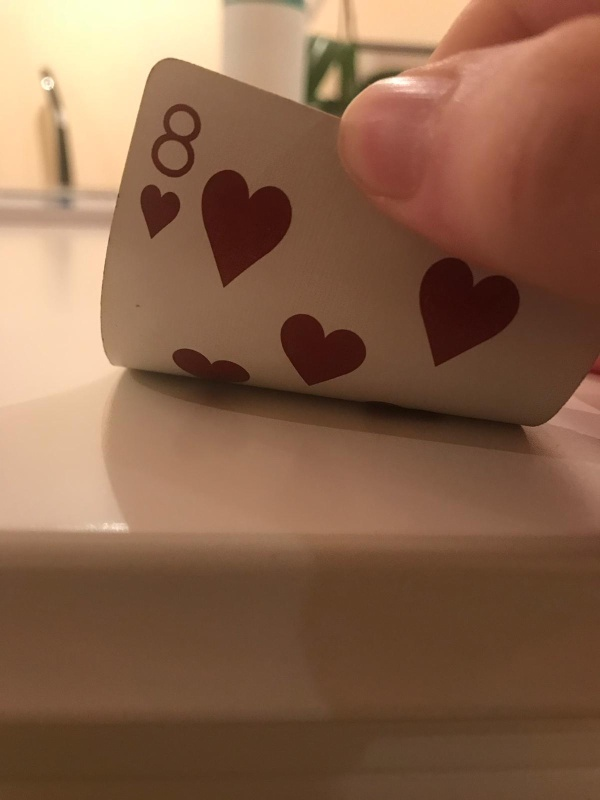H8: (137, 91, 198, 246)
